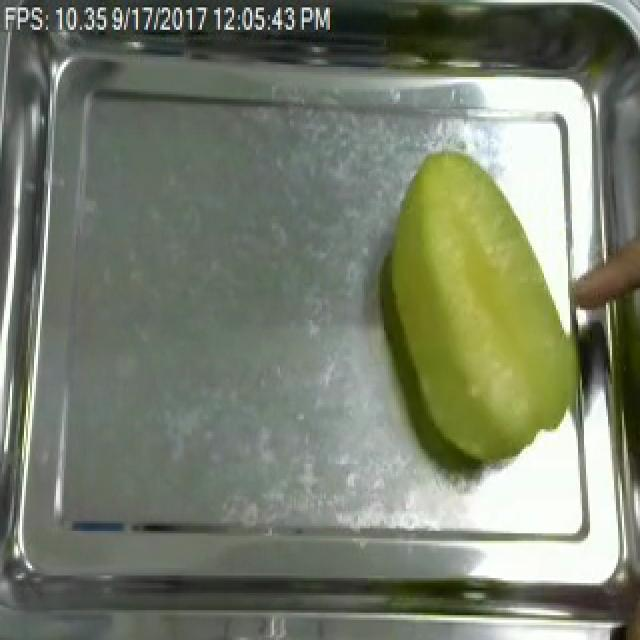fruit: (372, 144, 594, 479)
